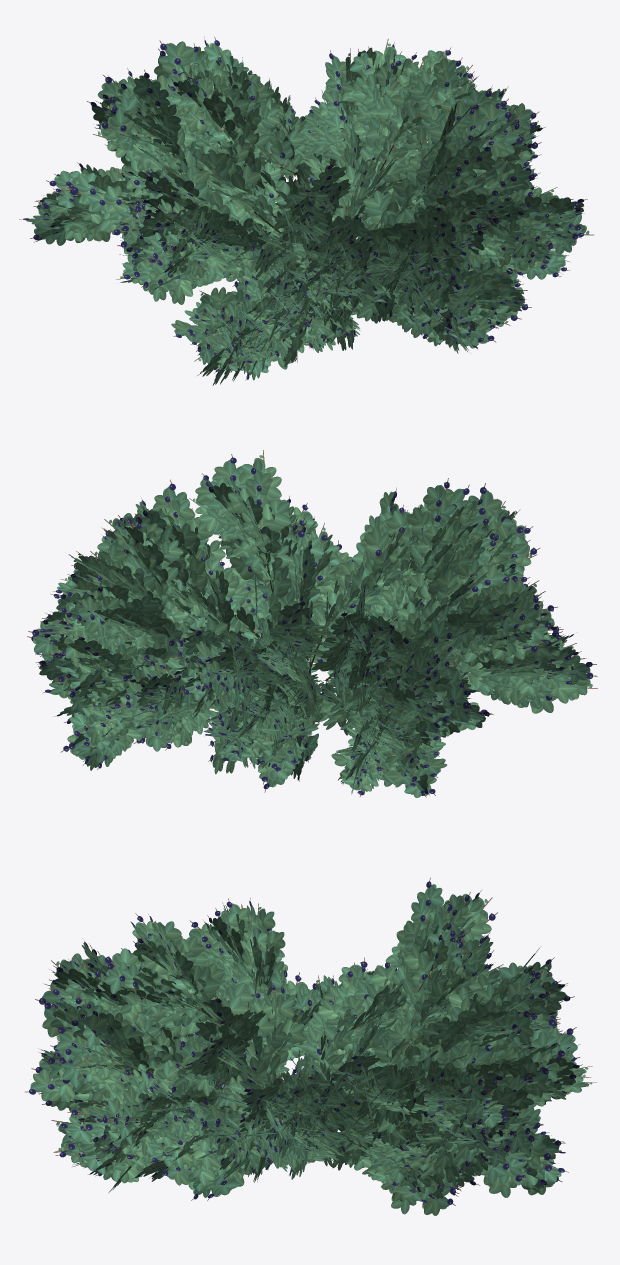
Rendered from bilberry_low_v02.fbx.
3 views of the same model, one above another, from view 1: azimuth 30°, elevation 25°; view 2: azimuth 150°, elevation 25°; view 3: azimuth 270°, elevation 25° (orthographic). The views are drawn at different scales.
Visible parts, largest first — view 1: bilberry_low_v02; view 2: bilberry_low_v02; view 3: bilberry_low_v02.
Part boxes in pixels (x1,y1,x2,y2): bilberry_low_v02: [19, 36, 593, 385]; bilberry_low_v02: [27, 450, 597, 797]; bilberry_low_v02: [25, 877, 596, 1215].
Size of the model in its own units: 96.73 by 50 by 103.
